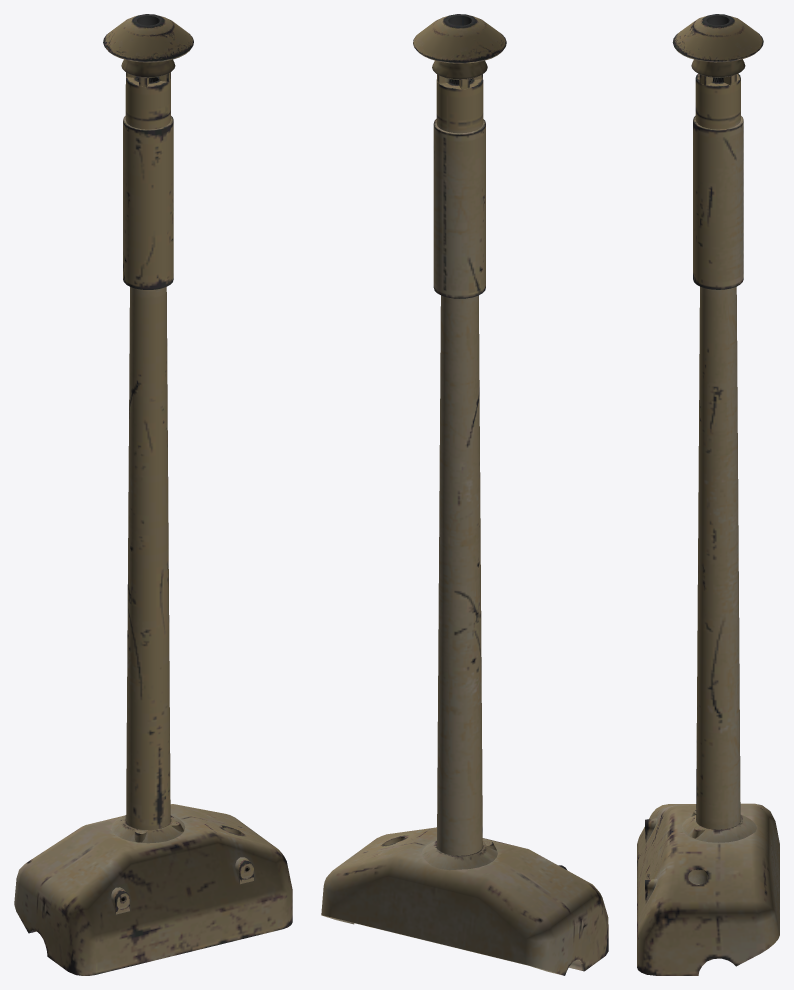
Rendered from Gun_06.glb.
3 views of the same model, side by side, from view 1: azimuth 30°, elevation 25°; view 2: azimuth 150°, elevation 25°; view 3: azimuth 270°, elevation 25° (orthographic). The views are drawn at different scales.
Visible parts, largest first — view 1: set_0_group_0; view 2: set_0_group_0; view 3: set_0_group_0.
Part boxes in pixels (x1,y1,x2,y2): set_0_group_0: [14, 14, 292, 975]; set_0_group_0: [321, 14, 608, 975]; set_0_group_0: [637, 14, 779, 975].
Bounding box in the file's own units: 1.25 × 4.87 × 0.7004.
1 material, 1 textured.
